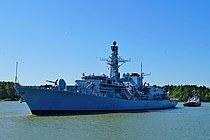MIL_Ship: (14, 39, 179, 114)
